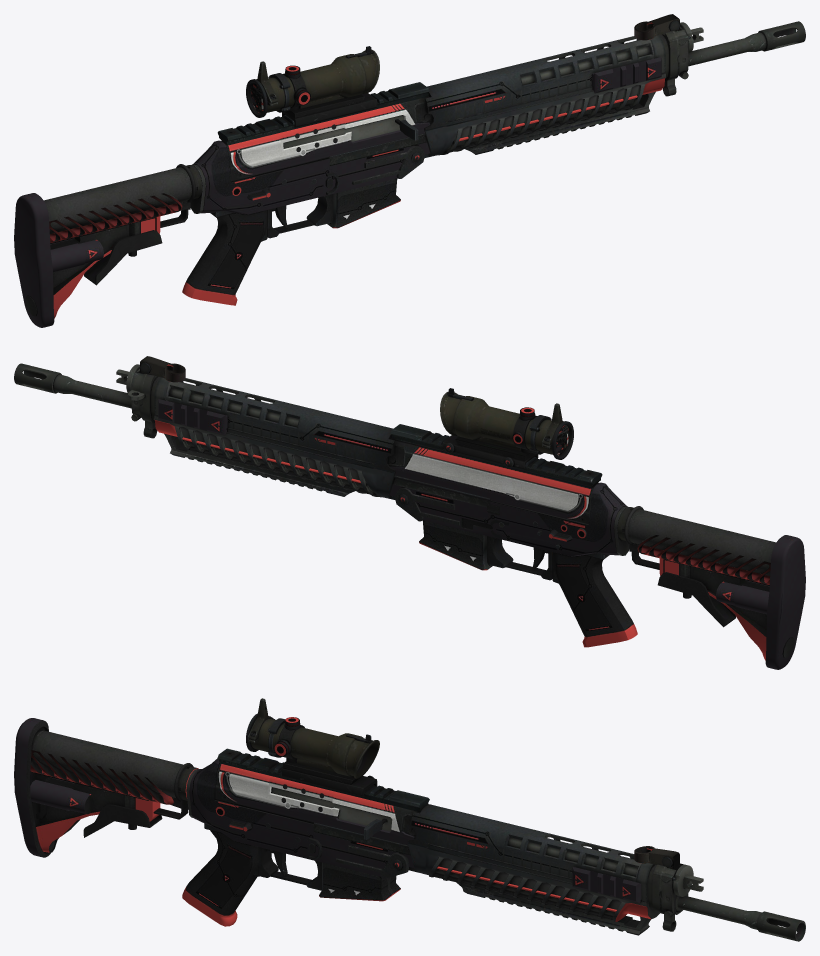
Rendered from w_specialcarbine_cyrex.glb.
3 renders of one model, top to bottom at view 1: azimuth 30°, elevation 25°; view 2: azimuth 150°, elevation 25°; view 3: azimuth 330°, elevation 25°, orthographic.
Parts seen in each view (by area): view 1: Gun_Root; view 2: Gun_Root; view 3: Gun_Root.
Part boxes in pixels (left/top/right/bottom): Gun_Root: left=14, top=14, right=805, bottom=327; Gun_Root: left=14, top=356, right=805, bottom=669; Gun_Root: left=14, top=698, right=805, bottom=941.
Bounding box in the file's own units: 0.8722 × 0.2498 × 0.0802.
Materials: 1 (1 with a texture image).
